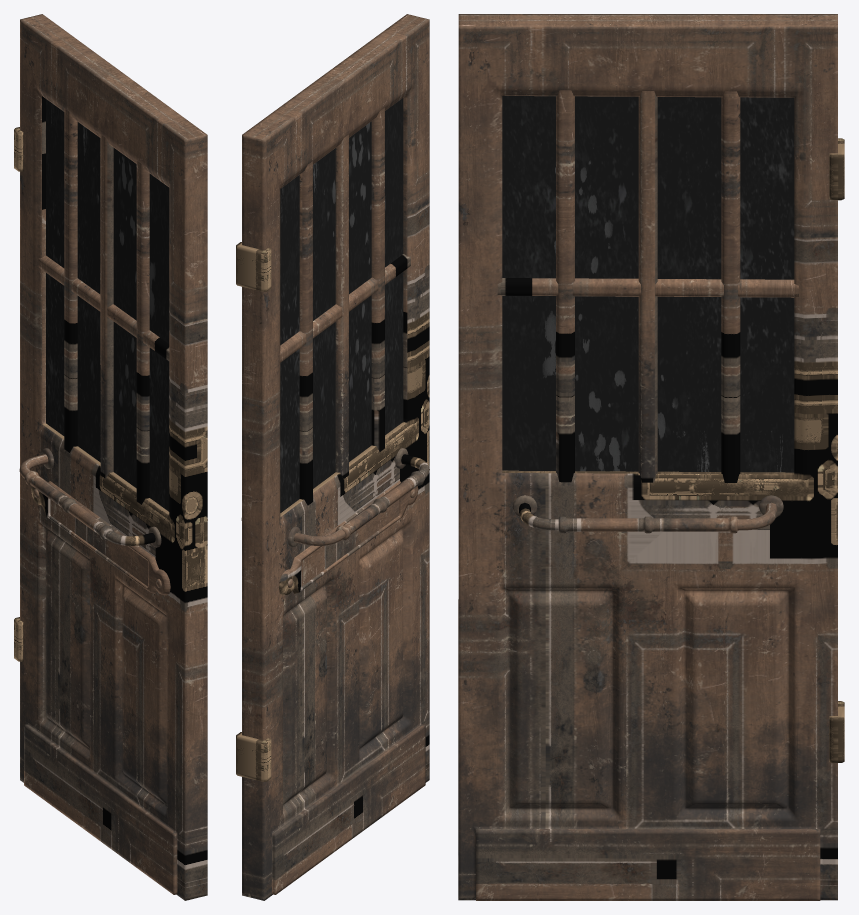
The model's file is SM_Door04_2_LOD0.glb.
3 views of the same model, side by side, from view 1: azimuth 30°, elevation 25°; view 2: azimuth 150°, elevation 25°; view 3: azimuth 270°, elevation 25° (orthographic). The views are drawn at different scales.
Parts seen in each view (by area): view 1: SM_Door04_2_LOD0; view 2: SM_Door04_2_LOD0; view 3: SM_Door04_2_LOD0.
Part boxes in pixels (x1=…): SM_Door04_2_LOD0: x1=14, y1=14, x2=207, y2=900; SM_Door04_2_LOD0: x1=236, y1=14, x2=429, y2=900; SM_Door04_2_LOD0: x1=458, y1=14, x2=844, y2=900.
Bounding box in the file's own units: 0.3683 × 2.62 × 1.05.
2 materials, 2 textured.
